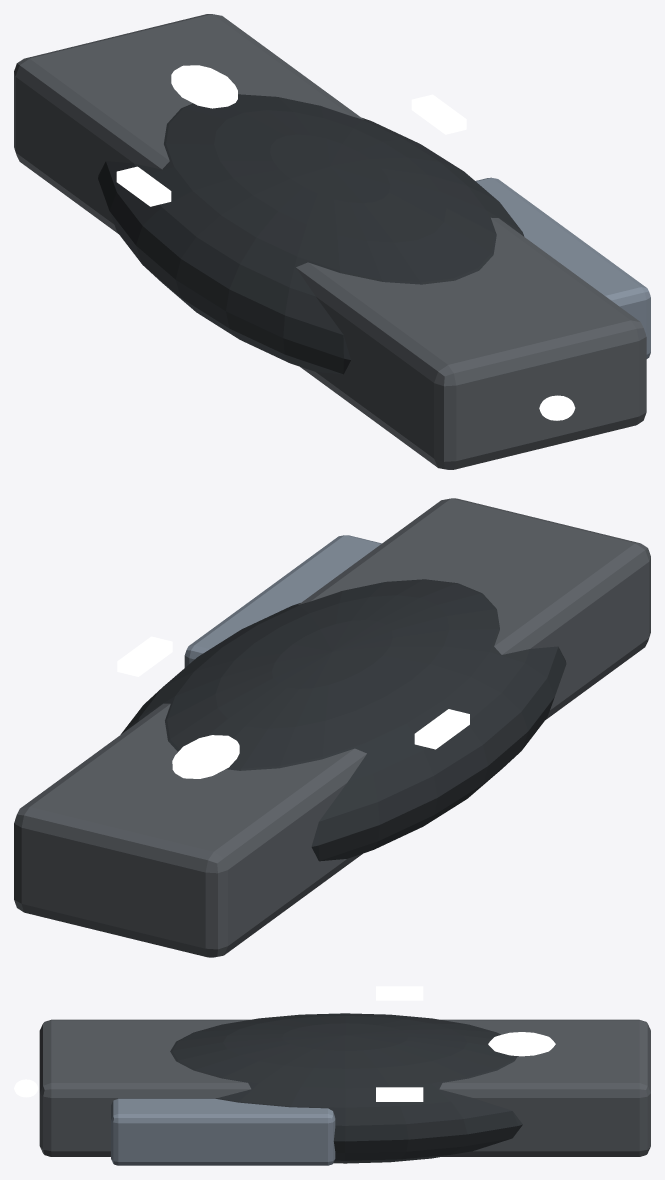
3 views of the same model, one above another, from view 1: azimuth 30°, elevation 25°; view 2: azimuth 150°, elevation 25°; view 3: azimuth 270°, elevation 25° (orthographic). The views are drawn at different scales.
Visible parts, largest first — view 1: RIMWARD_HULL, RIMWARD_EMISSIVE, RIMWARD_ENGINE_GLOW; view 2: RIMWARD_HULL, RIMWARD_EMISSIVE; view 3: RIMWARD_HULL, RIMWARD_EMISSIVE, RIMWARD_ENGINE_GLOW.
Boxes of the visible parts, x1,y1,x2,y2 form: RIMWARD_HULL: (14, 14, 650, 469); RIMWARD_EMISSIVE: (116, 65, 466, 206); RIMWARD_ENGINE_GLOW: (539, 395, 575, 420); RIMWARD_HULL: (14, 498, 650, 957); RIMWARD_EMISSIVE: (117, 636, 469, 778); RIMWARD_HULL: (39, 1013, 650, 1165); RIMWARD_EMISSIVE: (376, 986, 555, 1101); RIMWARD_ENGINE_GLOW: (14, 1079, 38, 1097).
Bounding box in the file's own units: 2.95 × 1.35 × 7.32.
